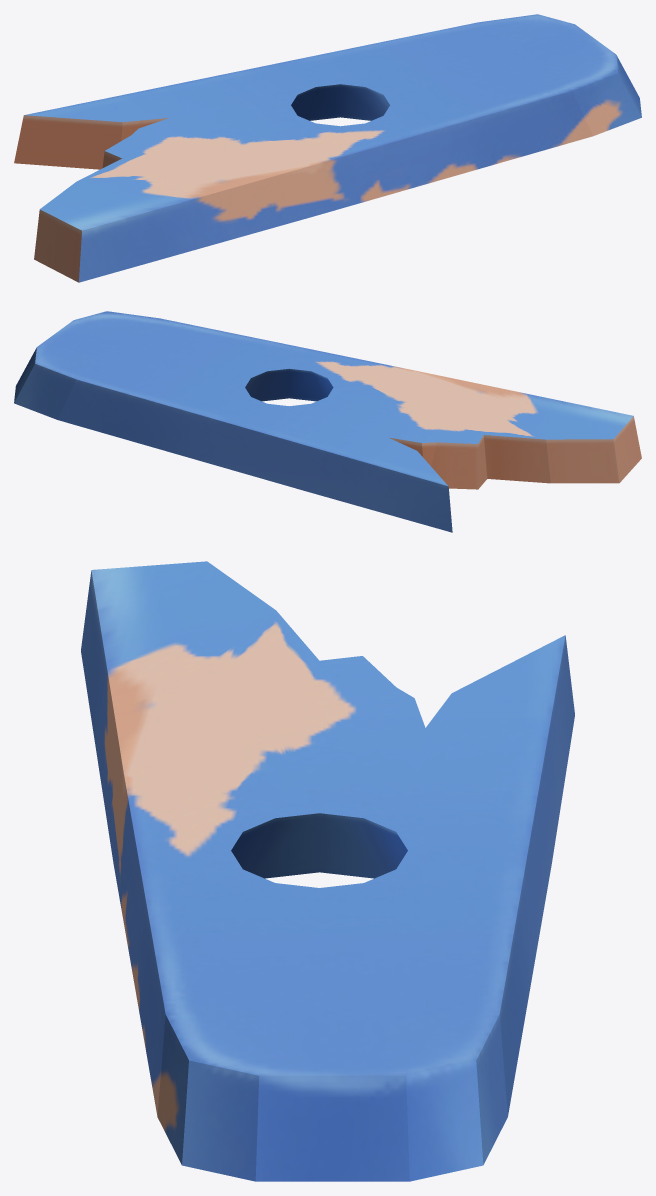
Rendered from huailingjian03.FBX.
3 views of the same model, one above another, from view 1: azimuth 30°, elevation 25°; view 2: azimuth 150°, elevation 25°; view 3: azimuth 270°, elevation 25° (orthographic). The views are drawn at different scales.
Visible parts, largest first — view 1: huailingjian03; view 2: huailingjian03; view 3: huailingjian03.
Boxes of the visible parts, x1=… form: huailingjian03: x1=14, y1=14, x2=641, y2=282; huailingjian03: x1=14, y1=311, x2=641, y2=532; huailingjian03: x1=81, y1=561, x2=574, y2=1181.
Bounding box in the file's own units: 32.74 × 2.44 × 12.68.
